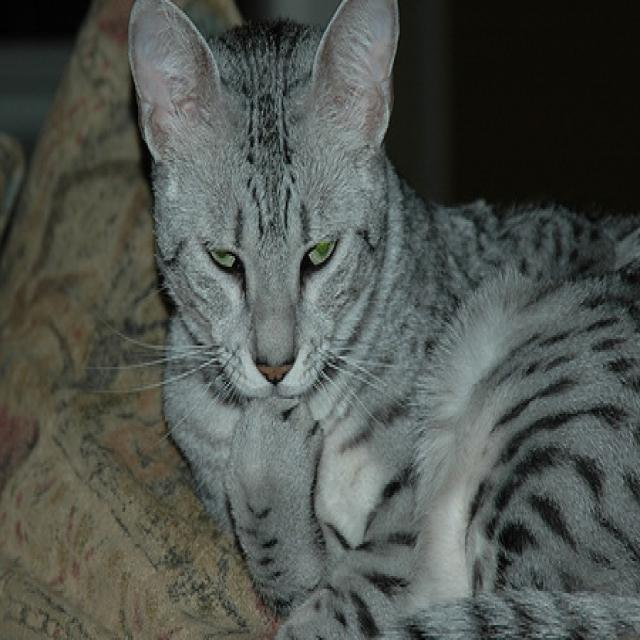Egyptian Mau: (125, 0, 640, 640)
